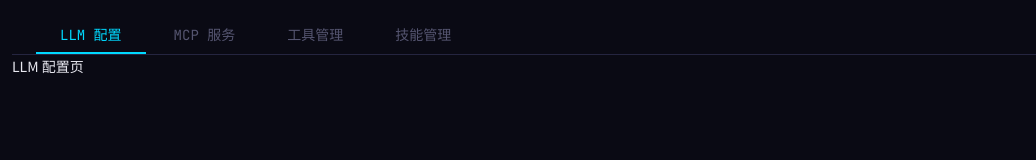
Test: SettingsPage 标签切换 › 点击 LLM 配置切回 LLM 标签页（AC-003）
The image size is (1036, 160).
Step 1. Click the button with class "settings-tab" showing "MCP 服务" → (204,35), box [150,16,259,54]
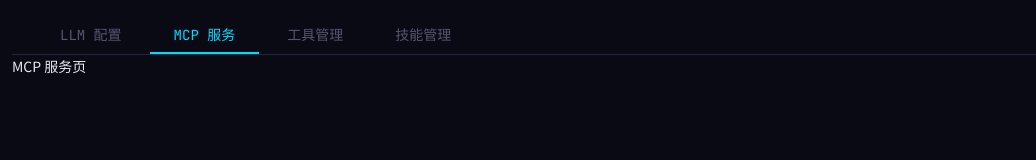
Step 2. Click the button with class "settings-tab" showing "LLM 配置" → (91,35), box [36,16,146,54]
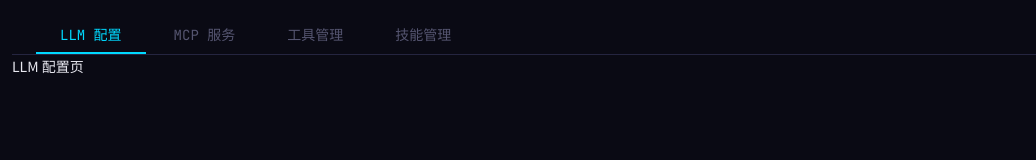
Expected: the text "LLM 配置页" is shown, [12,55,84,77]
